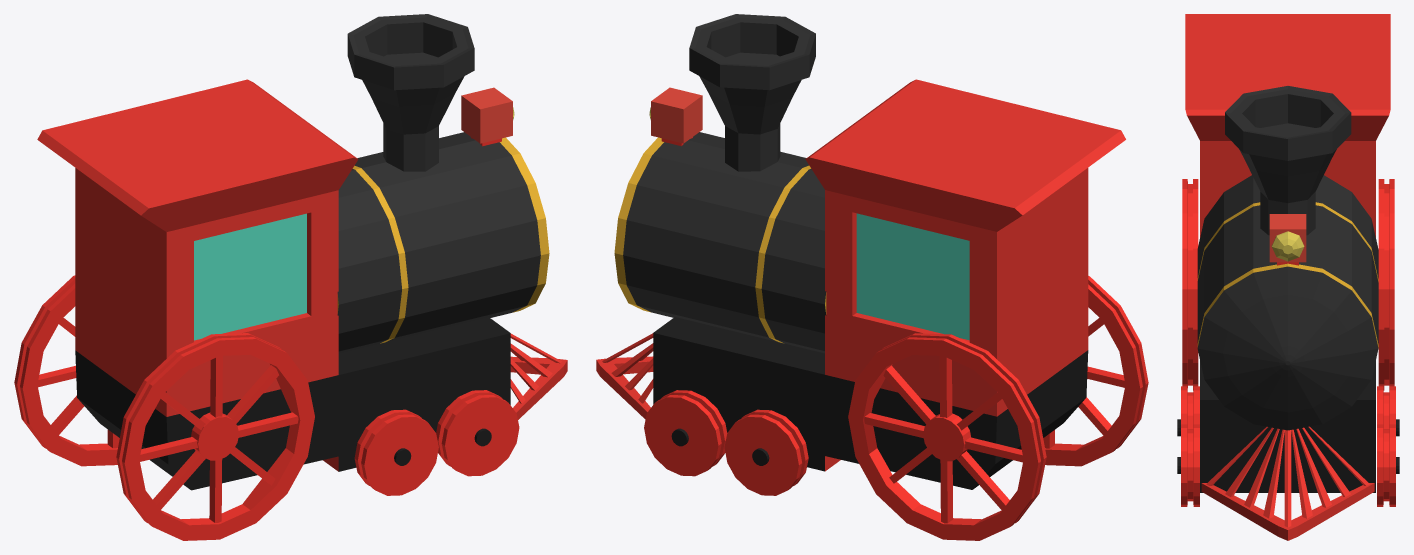
File: TRAINENGINE_V1.fbx
The picture shows the model from 3 angles, left to right: view 1: azimuth 30°, elevation 25°; view 2: azimuth 150°, elevation 25°; view 3: azimuth 270°, elevation 25°; orthographic projection. The views are drawn at different scales.
Parts seen in each view (by area): view 1: Cylinder, Big Wheel2, Big Wheel1, Circle.001, Circle.002; view 2: Cylinder, Big Wheel1, Big Wheel2, Circle.004, Circle.003; view 3: Cylinder, Big Wheel1, Big Wheel2, Circle.002, Circle.003, Circle.001, Circle.004.
Part boxes in pixels (x1=…): Cylinder: x1=37, y1=14, x2=567, y2=490; Big Wheel2: x1=116, y1=333, x2=314, y2=540; Big Wheel1: x1=14, y1=275, x2=119, y2=466; Circle.001: x1=354, y1=409, x2=438, y2=495; Circle.002: x1=436, y1=390, x2=519, y2=476; Cylinder: x1=596, y1=14, x2=1125, y2=489; Big Wheel1: x1=848, y1=333, x2=1046, y2=540; Big Wheel2: x1=1043, y1=276, x2=1148, y2=466; Circle.004: x1=724, y1=409, x2=808, y2=495; Circle.003: x1=644, y1=390, x2=727, y2=476; Cylinder: x1=1185, y1=14, x2=1390, y2=540; Big Wheel1: x1=1378, y1=179, x2=1394, y2=390; Big Wheel2: x1=1182, y1=179, x2=1198, y2=390; Circle.002: x1=1177, y1=424, x2=1199, y2=506; Circle.003: x1=1377, y1=424, x2=1399, y2=506; Circle.001: x1=1177, y1=386, x2=1199, y2=436; Circle.004: x1=1377, y1=386, x2=1399, y2=436.
Size of the model in its own units: 428 by 328 by 172.
